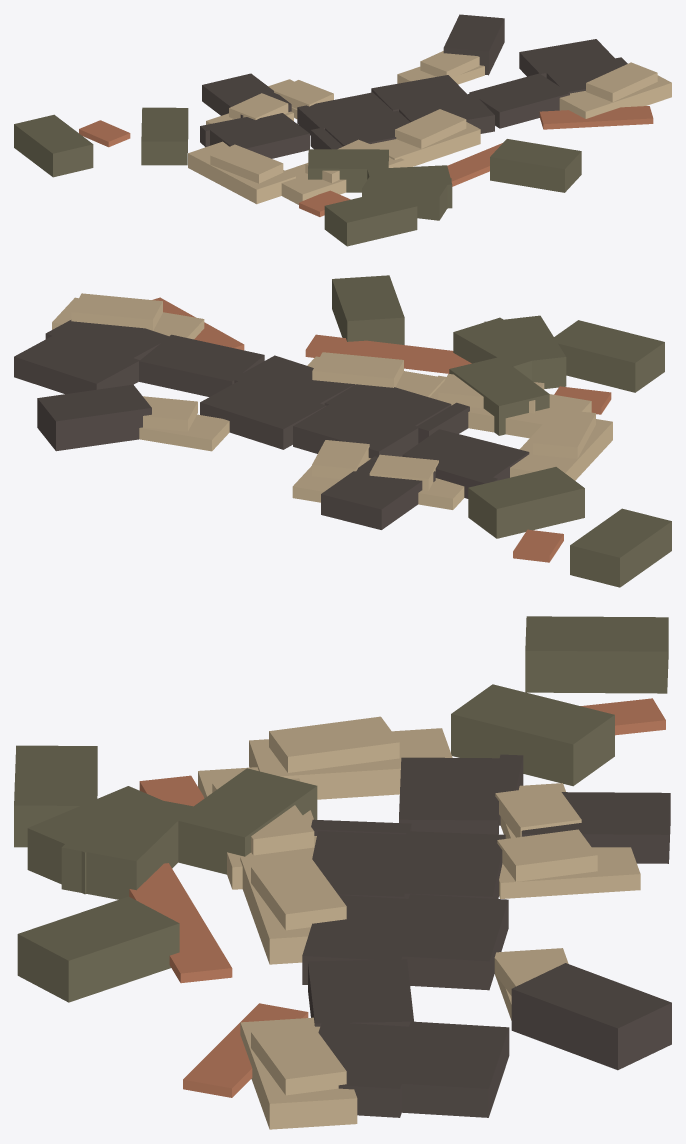
File: SM_SacosRemate_v3_Tablon_e3_Brecha_LOD1.fbx
3 views of the same model, one above another, from view 1: azimuth 30°, elevation 25°; view 2: azimuth 150°, elevation 25°; view 3: azimuth 270°, elevation 25° (orthographic). The views are drawn at different scales.
Visible parts, largest first — view 1: SM_sacos_piezas_v35_LOD1; view 2: SM_sacos_piezas_v35_LOD1; view 3: SM_sacos_piezas_v35_LOD1.
Boxes of the visible parts, x1=… form: SM_sacos_piezas_v35_LOD1: x1=14, y1=14, x2=671, y2=246; SM_sacos_piezas_v35_LOD1: x1=14, y1=275, x2=671, y2=587; SM_sacos_piezas_v35_LOD1: x1=14, y1=616, x2=671, y2=1129.
Size of the model in its own units: 6.29 by 0.26 by 3.71.
